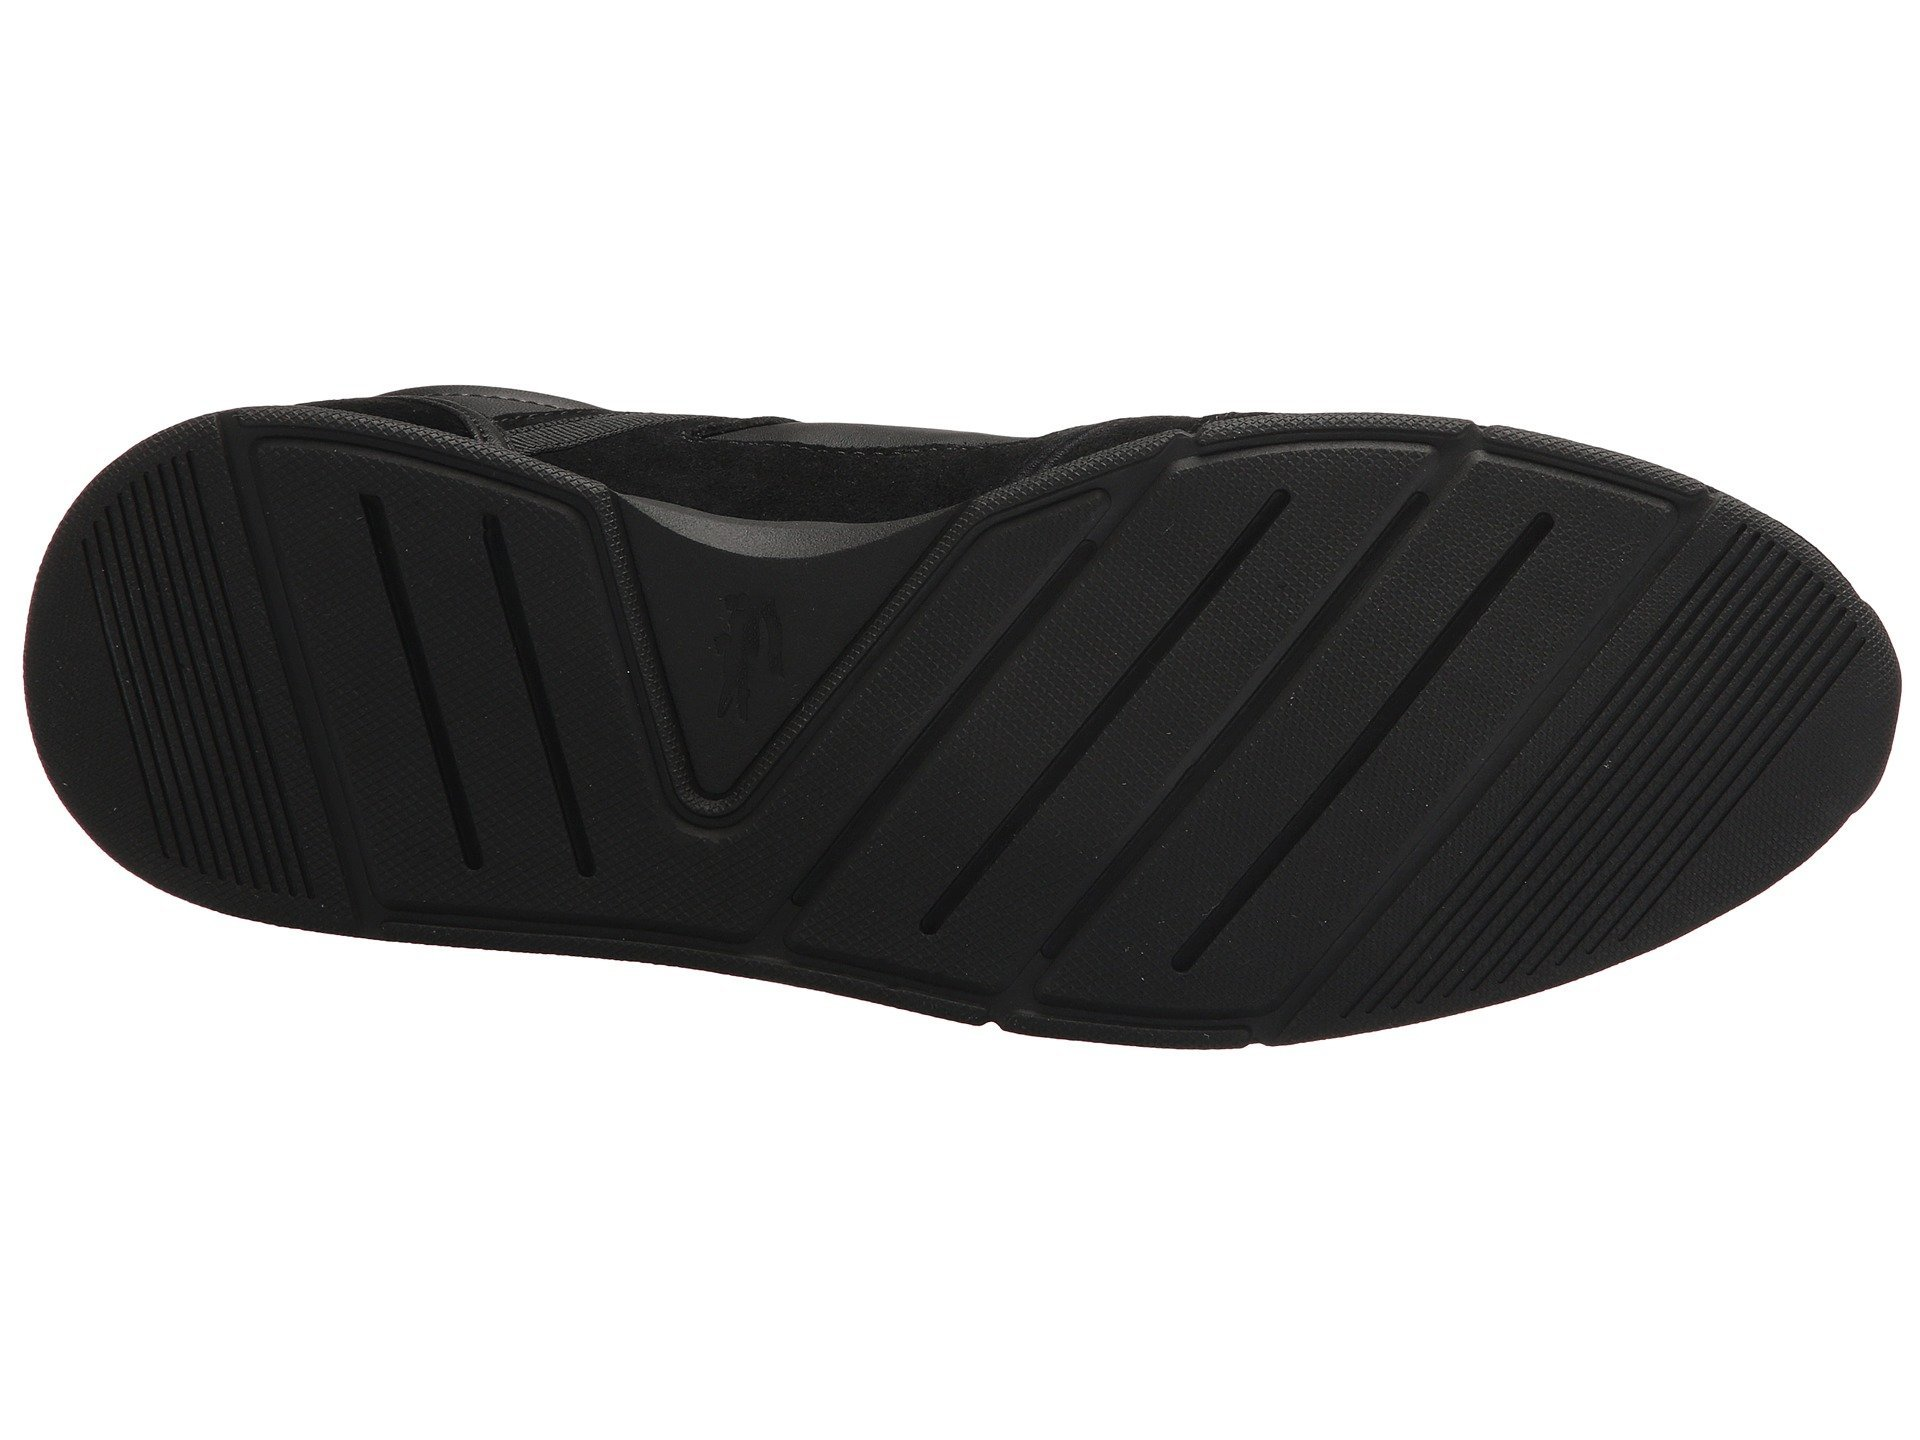line: (1606, 643, 1807, 843), (68, 588, 255, 794)
